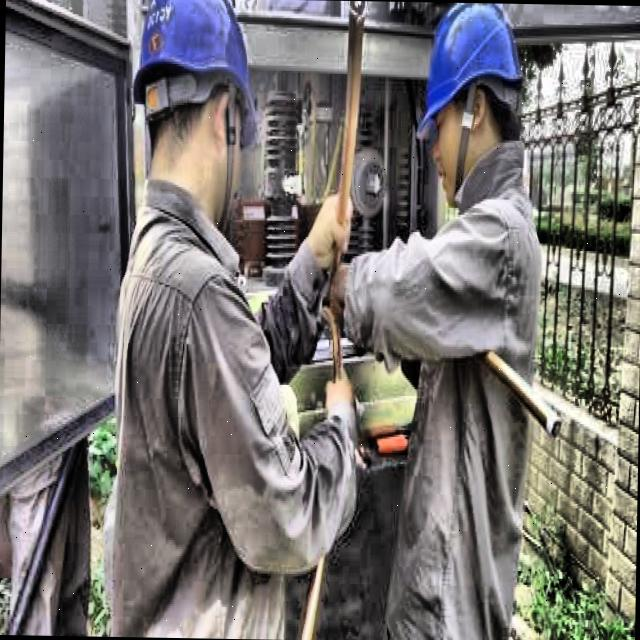helmet: (122, 0, 263, 235), (412, 3, 532, 202)
